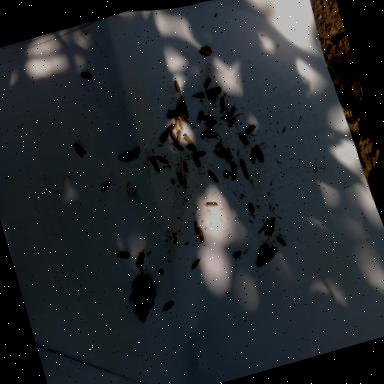pbw: (193, 227, 208, 245), (206, 89, 219, 109), (78, 68, 94, 84), (188, 257, 205, 272), (226, 102, 240, 119), (264, 248, 280, 262), (255, 142, 266, 162), (228, 160, 240, 178), (181, 132, 194, 148), (223, 146, 235, 163), (134, 253, 148, 267), (256, 224, 270, 238), (256, 251, 270, 265), (244, 124, 260, 136), (208, 168, 220, 184), (192, 218, 202, 236), (177, 106, 187, 124), (238, 132, 249, 148), (116, 250, 132, 261), (249, 148, 260, 164), (173, 78, 183, 95), (218, 143, 228, 160), (162, 300, 176, 312), (258, 244, 272, 256), (193, 151, 202, 169), (218, 96, 228, 112), (172, 140, 184, 153), (118, 151, 132, 162), (178, 98, 187, 115), (214, 148, 226, 160), (177, 171, 186, 187), (156, 154, 168, 166), (174, 129, 184, 143), (192, 91, 206, 101), (202, 112, 216, 122), (206, 131, 220, 141), (100, 182, 114, 192), (276, 234, 286, 248), (204, 200, 218, 210), (186, 143, 198, 154), (132, 148, 143, 160), (196, 110, 207, 122), (202, 77, 213, 89), (206, 119, 219, 129), (240, 158, 248, 174), (173, 116, 182, 130), (166, 124, 178, 134), (228, 116, 238, 128), (170, 130, 178, 144), (177, 118, 185, 132), (168, 107, 178, 117), (182, 160, 190, 172), (196, 150, 207, 158), (167, 112, 176, 121), (232, 251, 243, 258), (126, 155, 136, 162)
